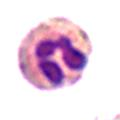neutrophil: (13, 15, 96, 92)
